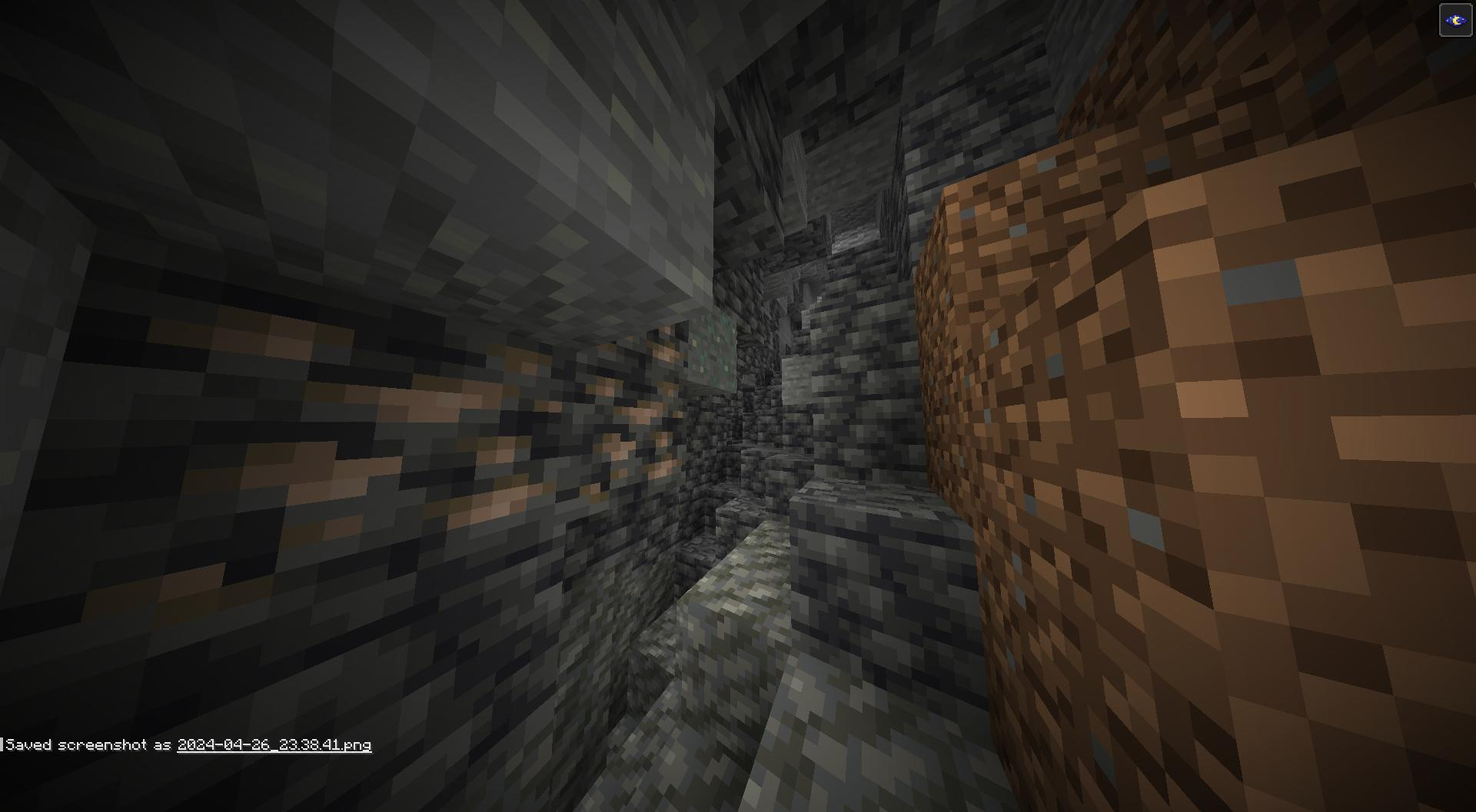iron ore: (86, 288, 535, 575), (568, 372, 687, 511)
